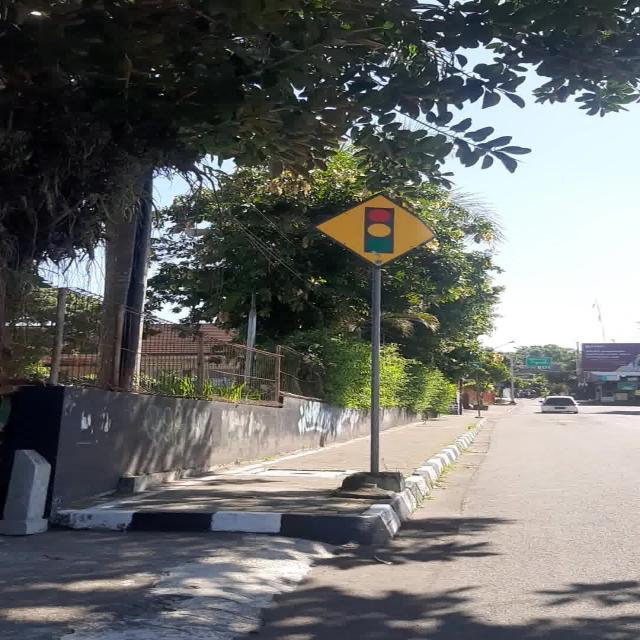Lampu Lalu Lintas: (314, 193, 438, 268)
